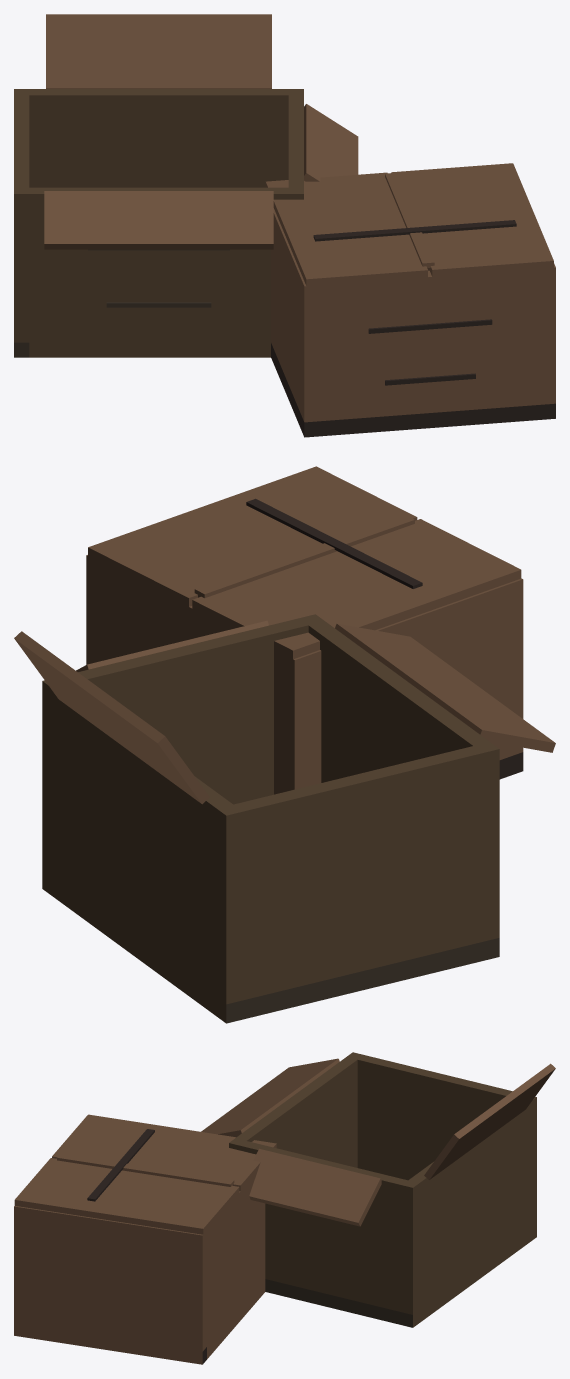
Rendered from CMU3DDecorFloorCardboardSouthWest.glb.
3 views of the same model, one above another, from view 1: azimuth 30°, elevation 25°; view 2: azimuth 150°, elevation 25°; view 3: azimuth 270°, elevation 25° (orthographic). The views are drawn at different scales.
Parts seen in each view (by area): view 1: carton 1 front wall, carton 2 front wall, carton 1 back wall, carton 1 raised back flap, carton 1 folded front flap, carton 2 closed lid half 1, carton 2 closed lid half -1, carton 2 left wall, carton 2 recessed bottom, carton 1 left wall, carton 1 side flap, carton 2 right wall (+6 smaller); view 2: carton 1 left wall, carton 1 back wall, carton 1 right wall, carton 2 closed lid half -1, carton 2 closed lid half 1, carton 2 left wall, carton 1 front wall, carton 2 back wall, carton 1 folded front flap, carton 1 raised back flap, carton 1 recessed bottom, carton 2 lid fold (+3 smaller); view 3: carton 2 right wall, carton 1 right wall, carton 1 back wall, carton 1 left wall, carton 2 closed lid half 1, carton 2 closed lid half -1, carton 1 front wall, carton 2 back wall, carton 1 side flap, carton 1 folded front flap, carton 1 raised back flap, carton 1 recessed bottom (+2 smaller).
Part boxes in pixels (x1,y1,x2,y2): carton 1 front wall: (29, 187, 288, 357); carton 2 front wall: (319, 270, 540, 421); carton 1 back wall: (29, 89, 288, 187); carton 1 raised back flap: (46, 14, 271, 88); carton 1 folded front flap: (44, 191, 273, 249); carton 2 closed lid half 1: (391, 163, 553, 283); carton 2 closed lid half -1: (265, 172, 427, 292); carton 2 left wall: (271, 208, 319, 422); carton 2 recessed bottom: (271, 343, 555, 437); carton 1 left wall: (14, 89, 29, 342); carton 1 side flap: (304, 104, 358, 181); carton 2 right wall: (541, 263, 555, 404); carton 1 left wall: (216, 742, 499, 1022); carton 1 back wall: (52, 690, 232, 1016); carton 1 right wall: (42, 614, 324, 895); carton 2 closed lid half -1: (192, 519, 521, 667); carton 2 closed lid half 1: (88, 466, 417, 606); carton 2 left wall: (282, 578, 523, 792); carton 1 front wall: (308, 621, 489, 782); carton 2 back wall: (98, 562, 282, 794); carton 1 folded front flap: (335, 623, 555, 752); carton 1 raised back flap: (14, 631, 209, 804); carton 1 recessed bottom: (226, 938, 499, 1023); carton 2 lid fold: (194, 514, 414, 598); carton 2 right wall: (14, 1206, 206, 1364); carton 1 right wall: (229, 1138, 419, 1327); carton 1 back wall: (408, 1104, 530, 1322); carton 1 left wall: (347, 1052, 536, 1241); carton 2 closed lid half 1: (14, 1158, 239, 1239); carton 2 closed lid half -1: (52, 1114, 276, 1196); carton 1 front wall: (235, 1057, 357, 1167); carton 2 back wall: (207, 1182, 265, 1359); carton 1 side flap: (249, 1148, 381, 1226); carton 1 folded front flap: (201, 1058, 339, 1137); carton 1 raised back flap: (424, 1063, 555, 1179); carton 1 recessed bottom: (265, 1279, 412, 1327).
Size of the model in its own units: 0.6985 by 0.3533 by 0.912.
